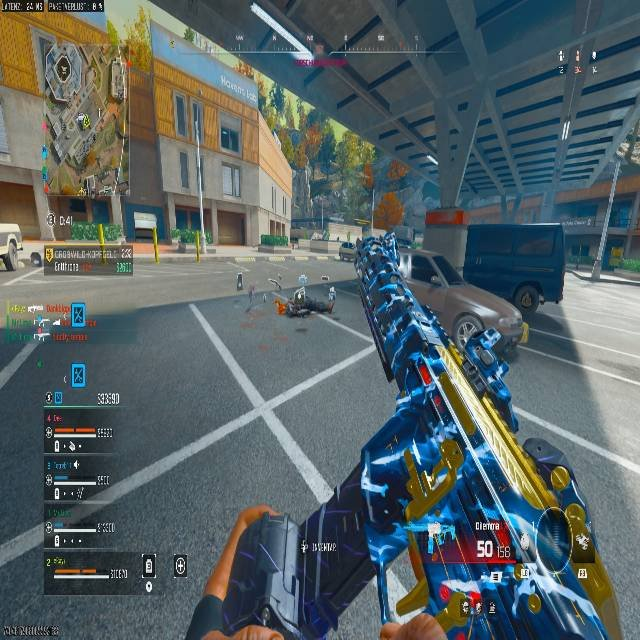player: (275, 287, 334, 318)
